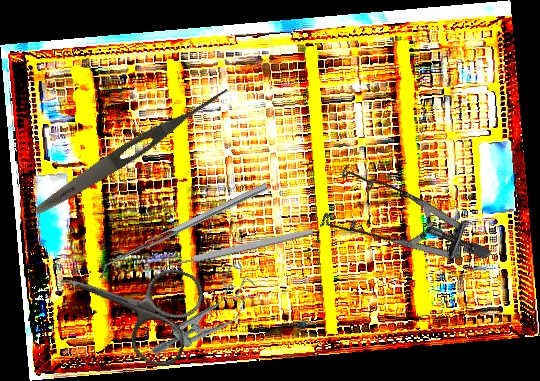Dressing Forceps: (31, 80, 233, 220)
Iris Scissors: (51, 234, 210, 373)
Spatula Surgical: (94, 182, 273, 280)
Speculum: (299, 126, 494, 327), (144, 259, 267, 376)
Surgical Spoon: (141, 226, 314, 276)
